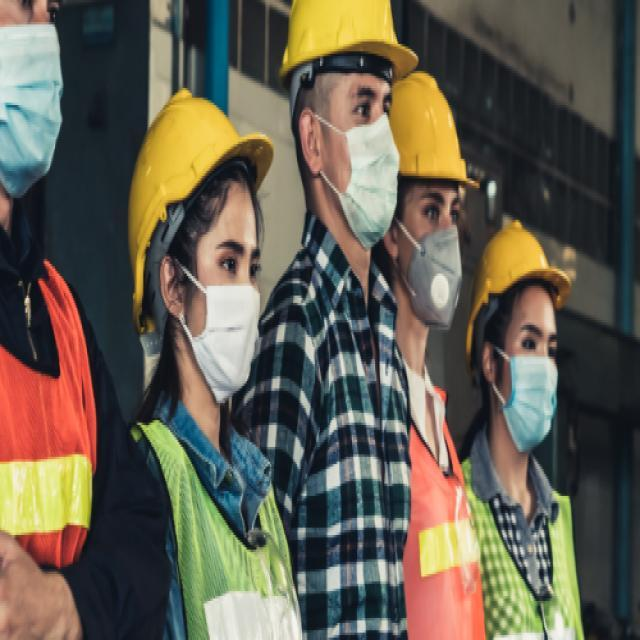helmet: (126, 87, 276, 413), (279, 0, 420, 264), (363, 66, 481, 336), (463, 217, 574, 459)
vest: (0, 212, 119, 640), (125, 403, 319, 640), (361, 354, 495, 640), (455, 449, 592, 639)
